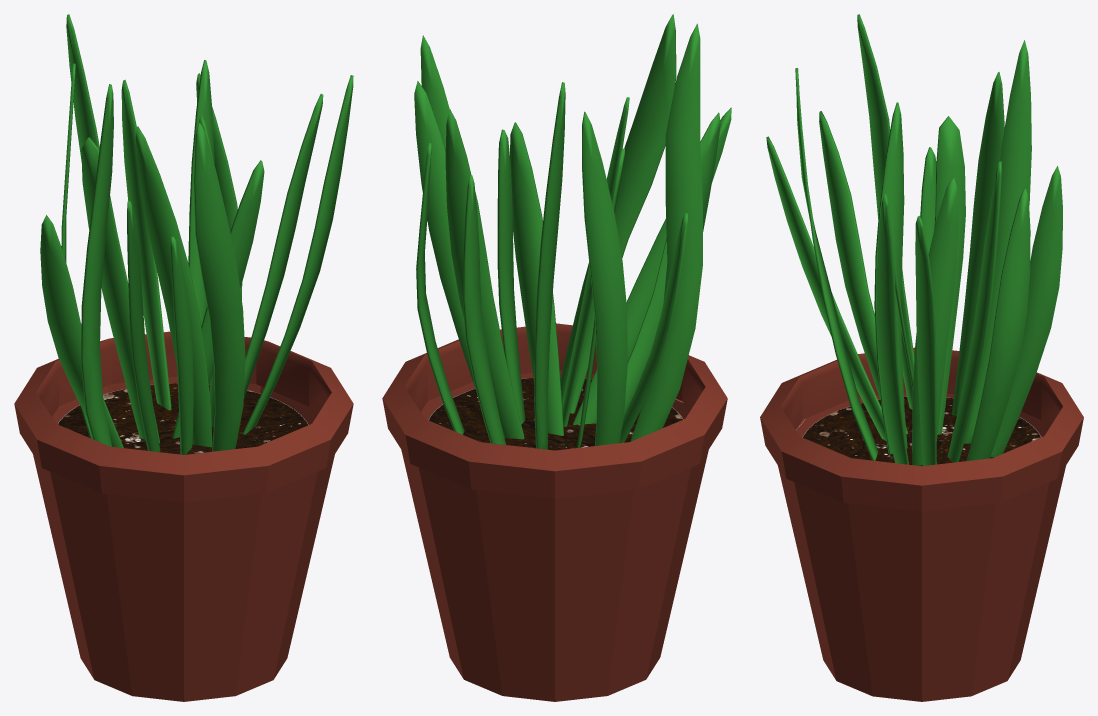
Rendered from Plant_Textured_title.fbx.
3 renders of one model, left to right at view 1: azimuth 30°, elevation 25°; view 2: azimuth 150°, elevation 25°; view 3: azimuth 270°, elevation 25°, orthographic. The views are drawn at different scales.
Visible parts, largest first — view 1: pot, plant; view 2: pot, plant; view 3: pot, plant.
Part boxes in pixels (<box>): pot: <box>14,331,353,701</box>; plant: <box>40,14,353,454</box>; pot: <box>382,323,727,701</box>; plant: <box>414,14,731,449</box>; pot: <box>760,347,1083,701</box>; plant: <box>766,14,1062,465</box>.
Bounding box in the file's own units: 61.92 × 124 × 61.16.
